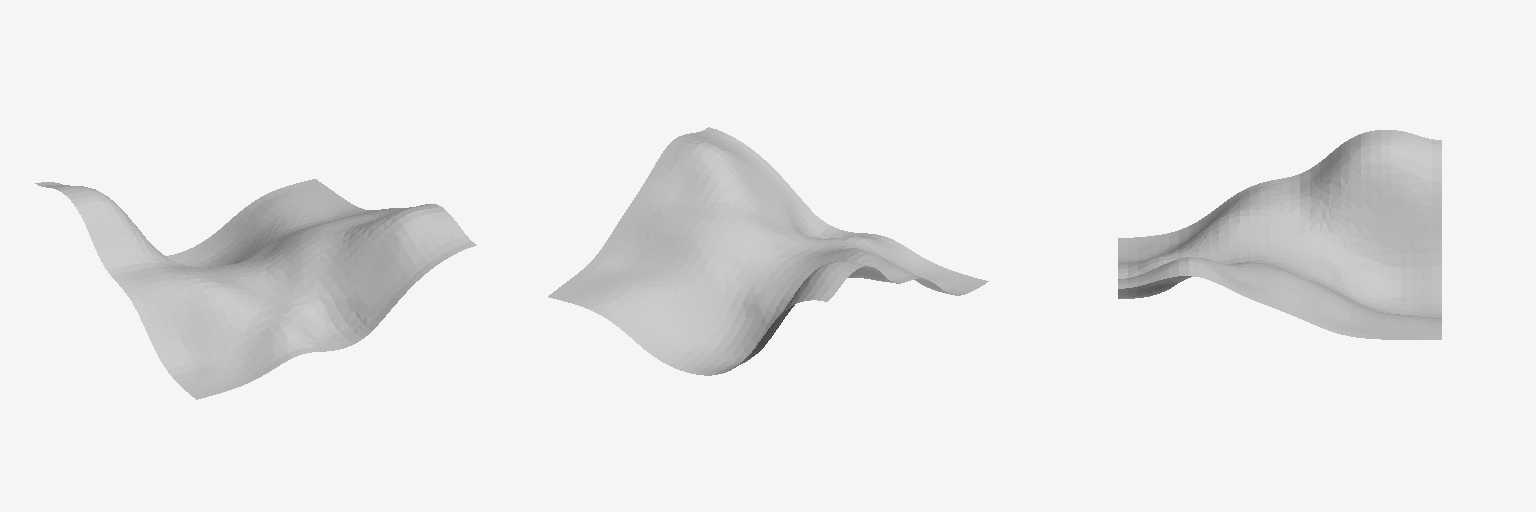
Rendered from Mesh5_Poisson.obj.
3 views of the same model, side by side, from view 1: azimuth 30°, elevation 25°; view 2: azimuth 150°, elevation 25°; view 3: azimuth 270°, elevation 25° (orthographic).
Bounding box in the file's own units: 2.77 × 1.1 × 2.77.